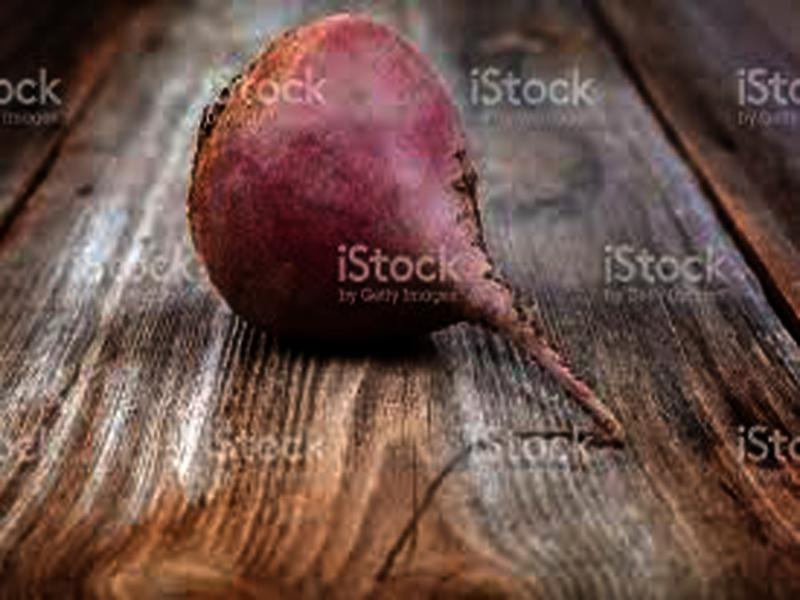Beet: (189, 13, 628, 443)
